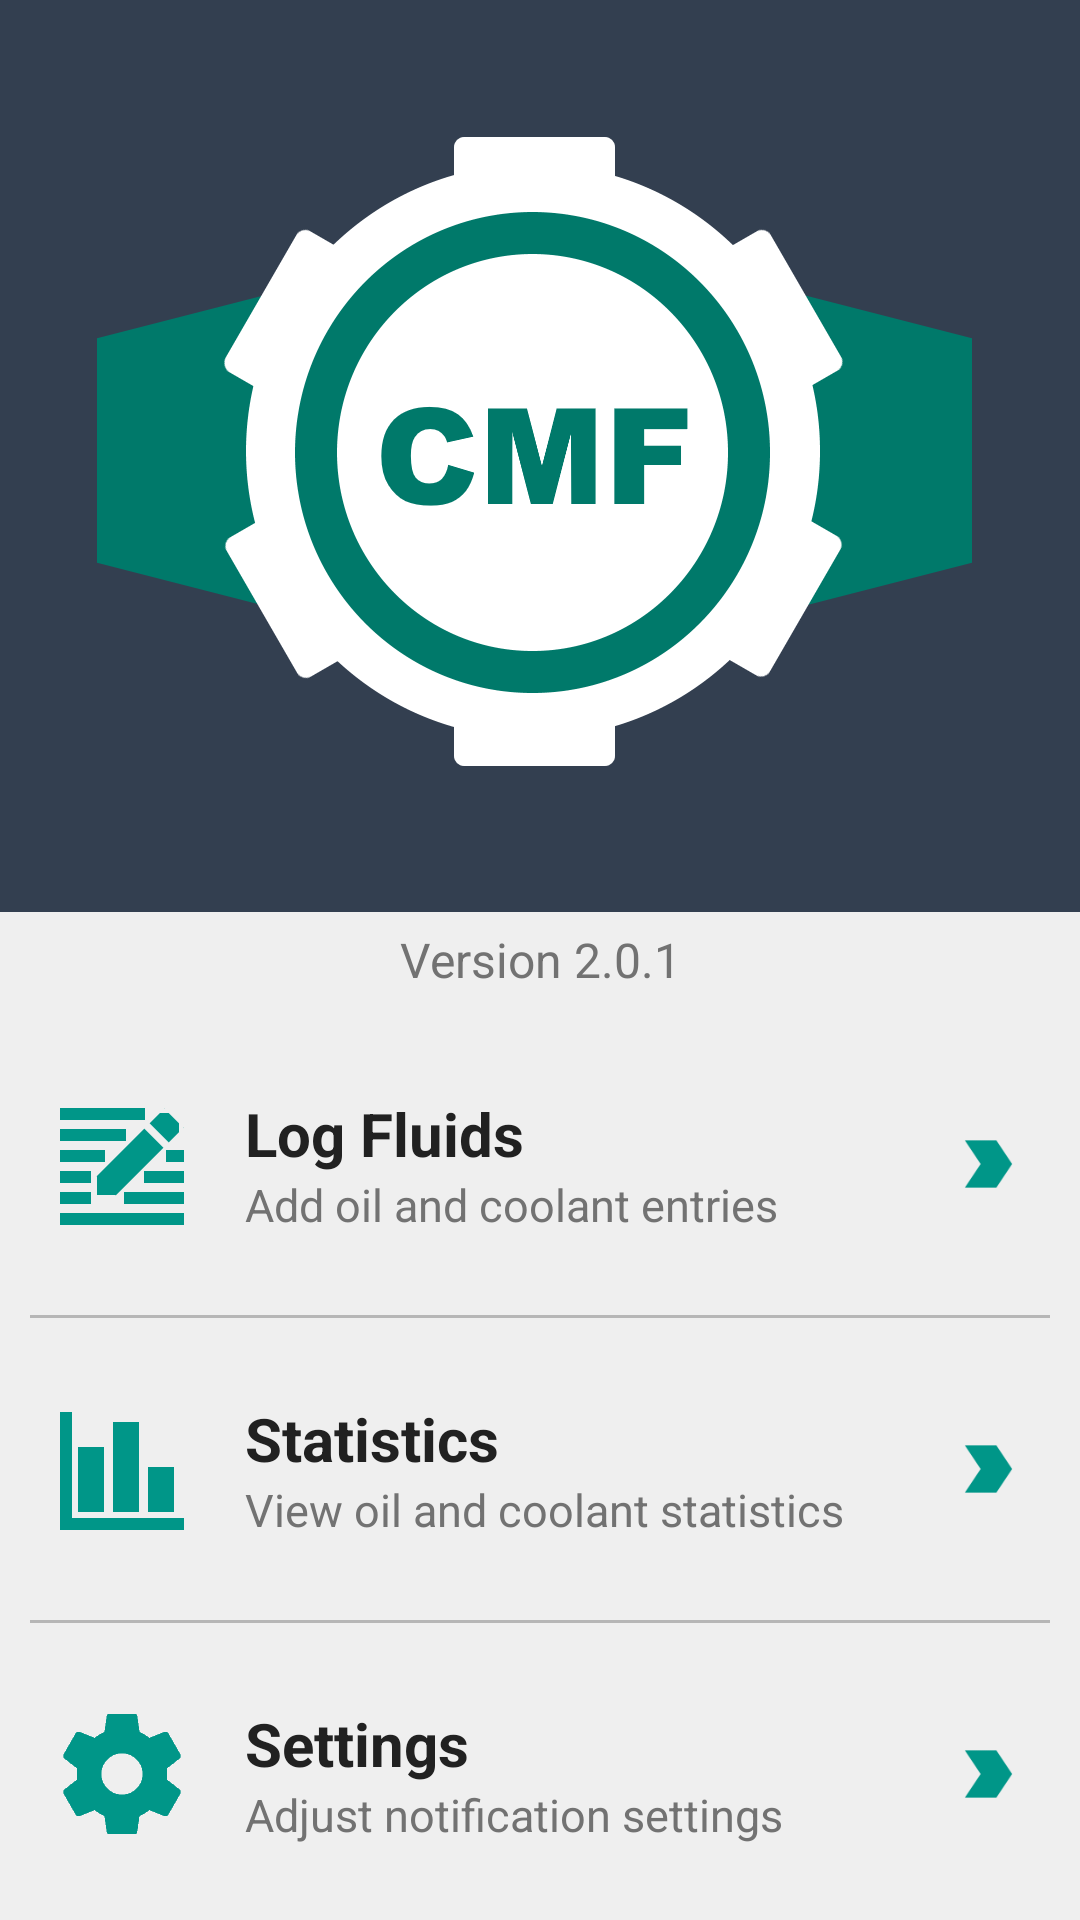

Named icons in this screenshot (1080x1920) and their bounding boxes, (x1, y1, x2, y2):
arrow: (965, 1140, 1012, 1188), (965, 1445, 1012, 1493), (965, 1750, 1012, 1798)
